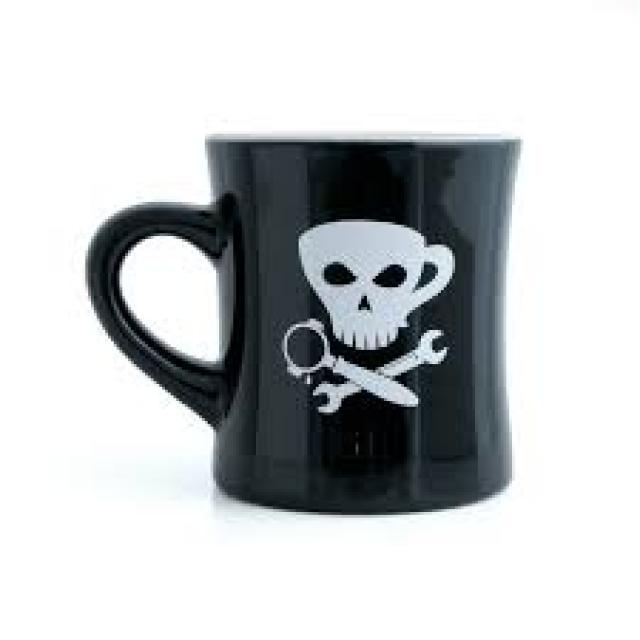taza: (86, 132, 524, 520)
